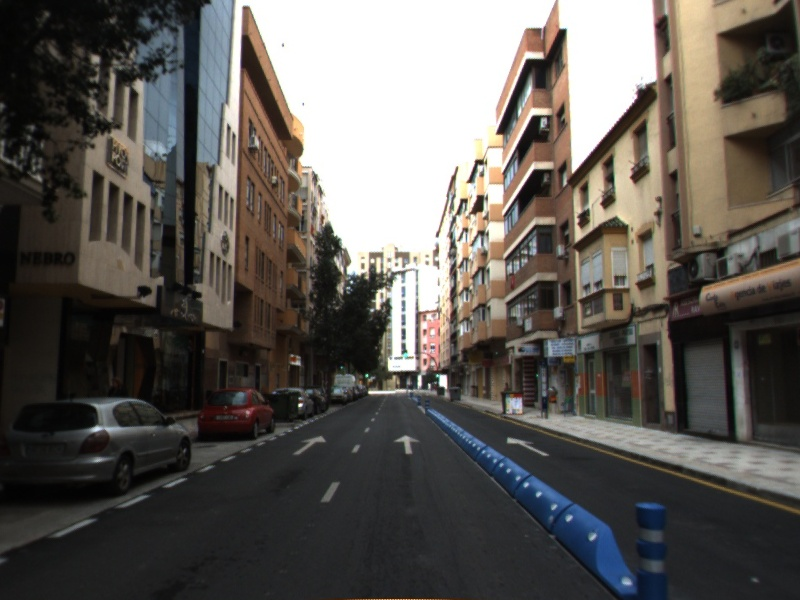STRAIGHT: (505, 435, 551, 458), (291, 434, 328, 457), (392, 433, 422, 456)
